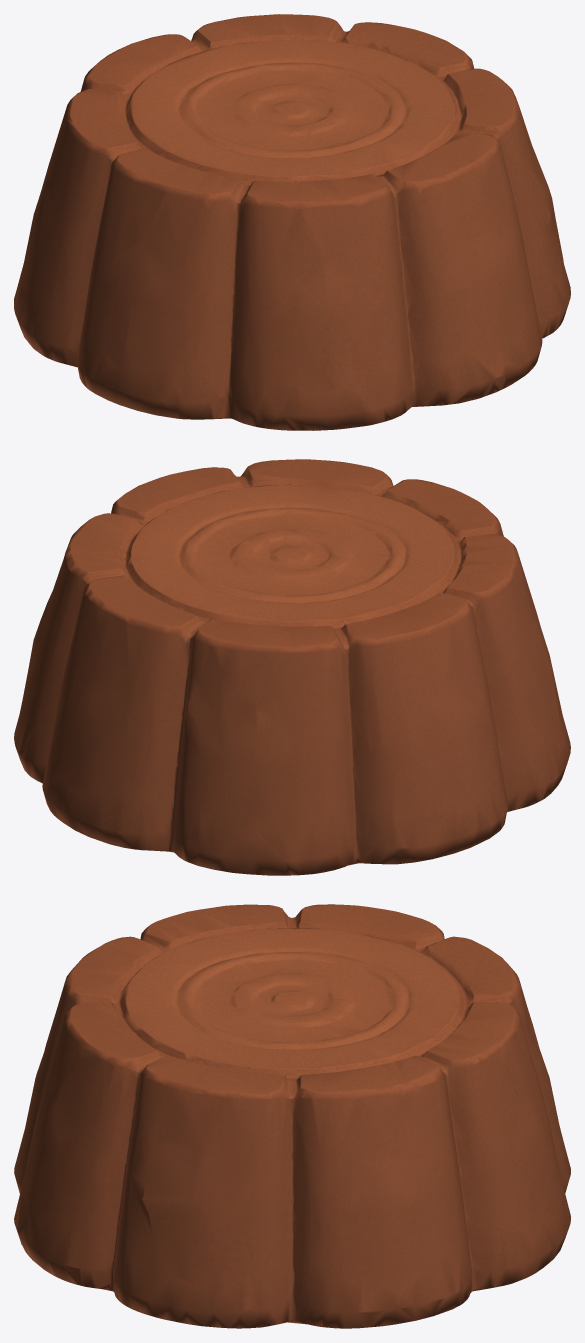
Rendered from Prop_WasteSolid.glb.
3 renders of one model, top to bottom at view 1: azimuth 30°, elevation 25°; view 2: azimuth 150°, elevation 25°; view 3: azimuth 270°, elevation 25°, orthographic. The views are drawn at different scales.
Size of the model in its own units: 1.9 by 0.8328 by 1.9.
Materials: 1 (1 with a texture image).
